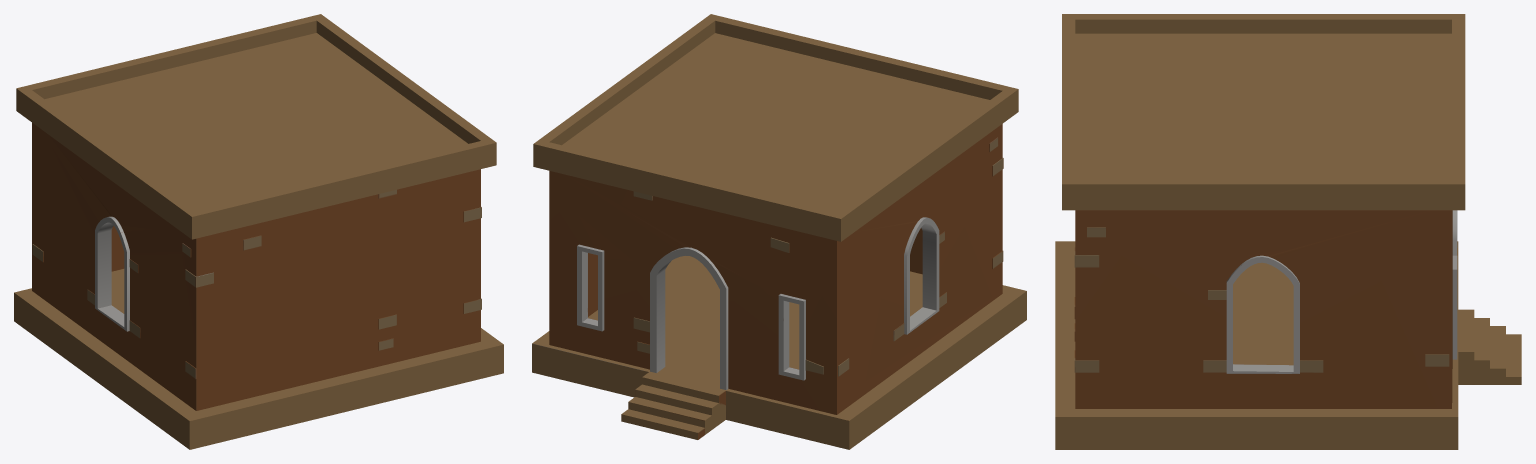
Rendered from HOS0510002.fbx.
3 renders of one model, left to right at view 1: azimuth 30°, elevation 25°; view 2: azimuth 150°, elevation 25°; view 3: azimuth 270°, elevation 25°, orthographic. The views are drawn at different scales.
Parts seen in each view (by area): view 1: smHOS0510002; view 2: smHOS0510002; view 3: smHOS0510002.
Boxes of the visible parts, x1,y1,x2,y2 form: smHOS0510002: (14,14,503,449); smHOS0510002: (532,14,1026,449); smHOS0510002: (1055,14,1521,449).
Bounding box in the file's own units: 644 × 450 × 722.
Materials: 1 (1 with a texture image).
